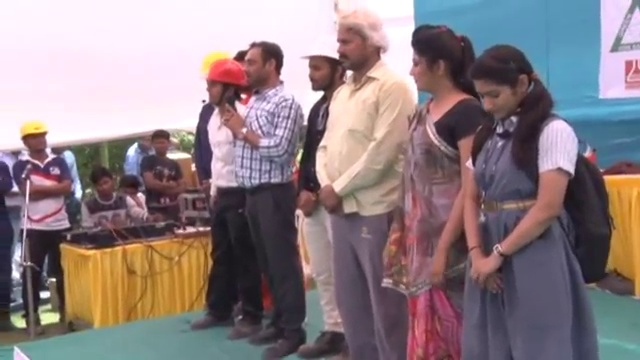helmet: (294, 21, 341, 65), (197, 57, 249, 89), (19, 120, 48, 141)
helmet_off: (471, 41, 541, 126), (406, 24, 471, 97), (330, 10, 392, 75), (236, 43, 287, 93), (88, 165, 114, 199), (119, 174, 144, 202), (148, 130, 170, 159), (137, 133, 154, 154)
helmet_on: (198, 49, 249, 110), (297, 28, 341, 94), (18, 120, 48, 157)
person: (462, 47, 610, 360), (315, 6, 417, 360), (394, 26, 492, 358), (222, 42, 306, 360), (189, 52, 259, 339), (294, 21, 349, 359), (11, 118, 75, 338), (80, 165, 160, 235), (140, 128, 184, 224), (63, 164, 94, 243), (123, 133, 154, 182)
